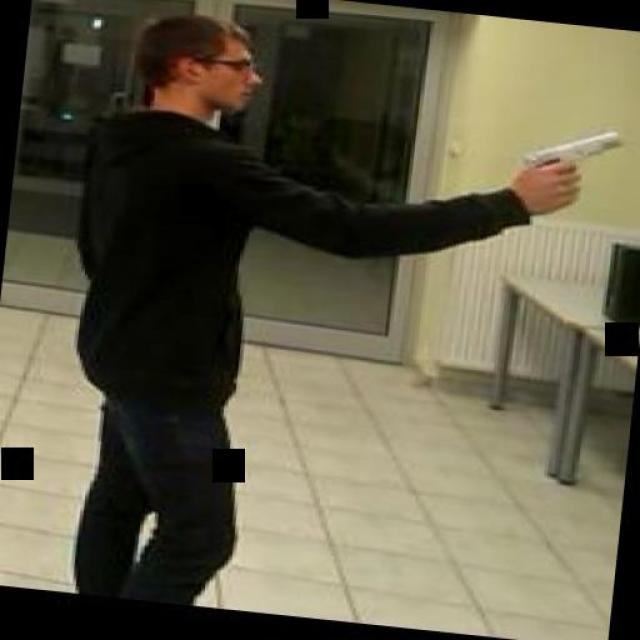gun: (509, 121, 625, 215)
